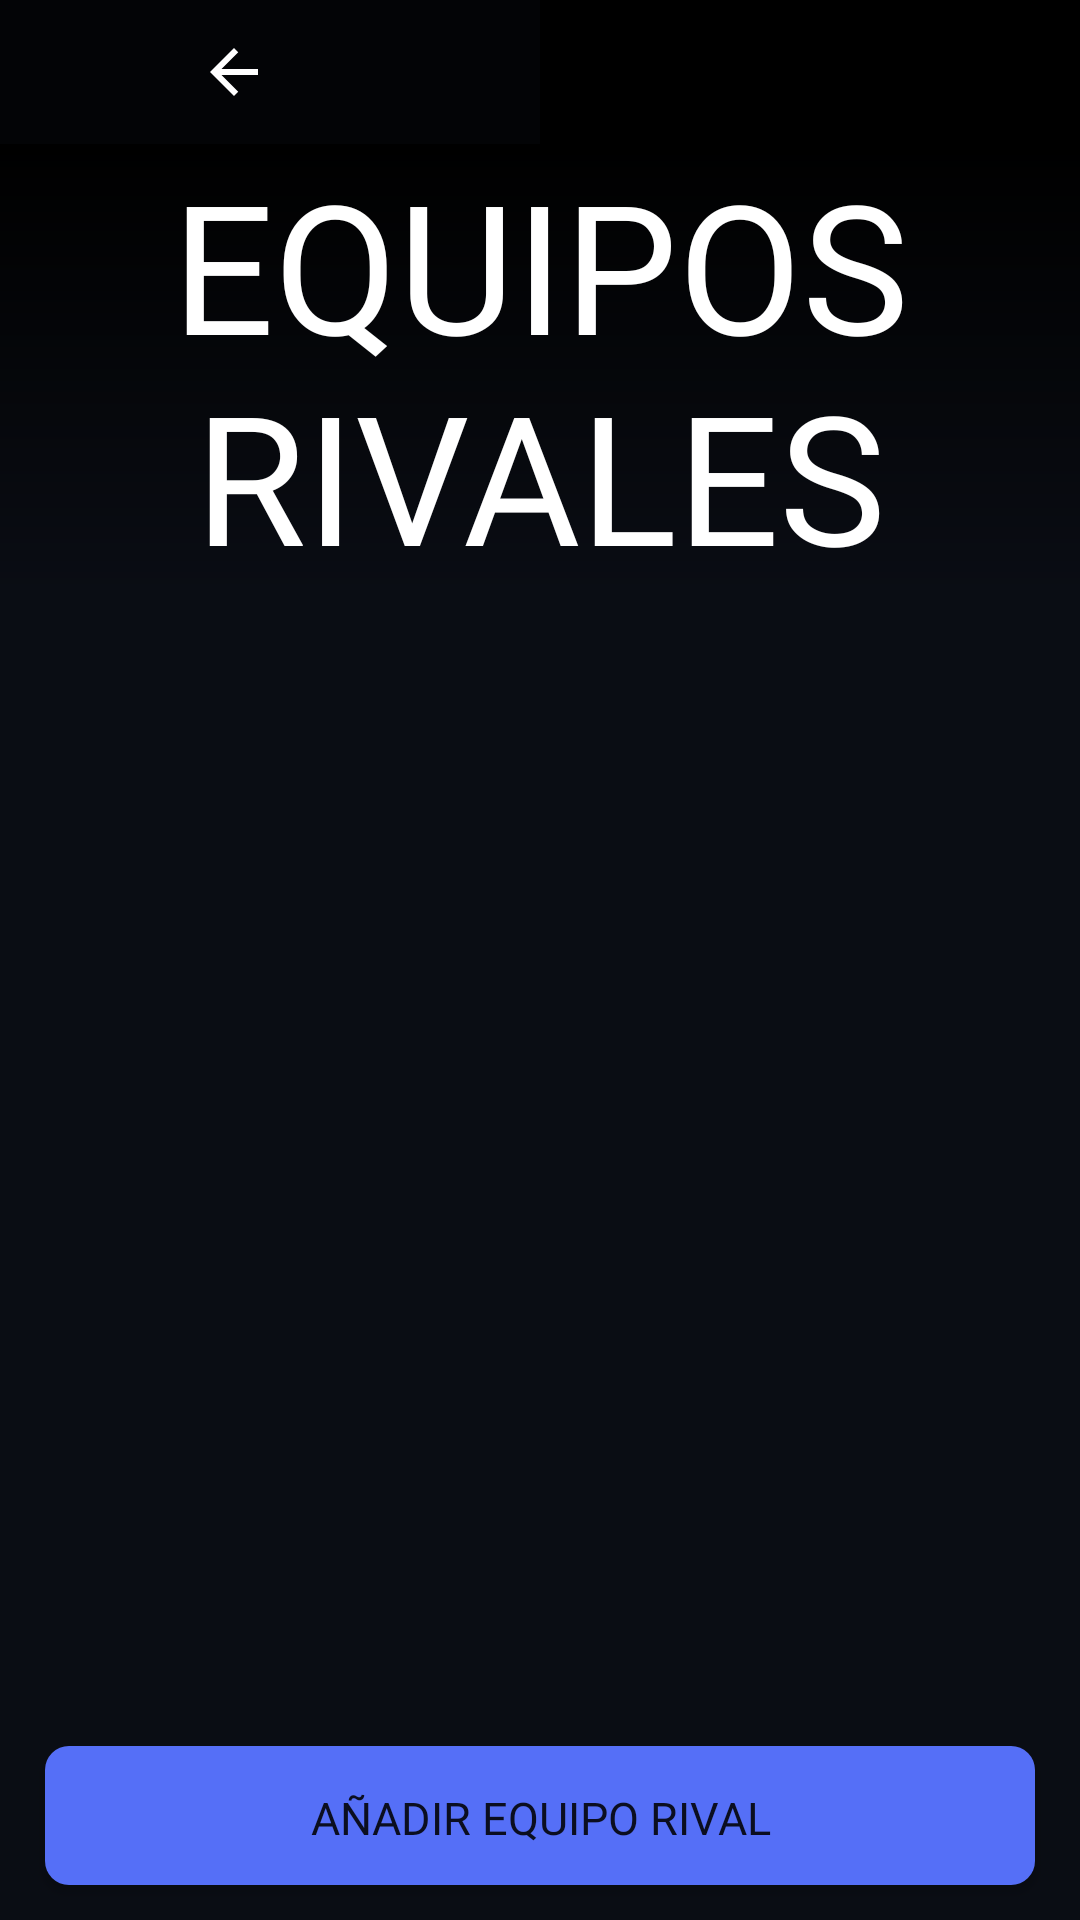

Icon bounding boxes for this 1080w x 1920h phone screenshot, format (x1, y1, x2, y2):
arrow back: (210, 48, 258, 96)
